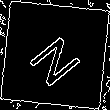N_NE: (23, 24, 87, 86)
